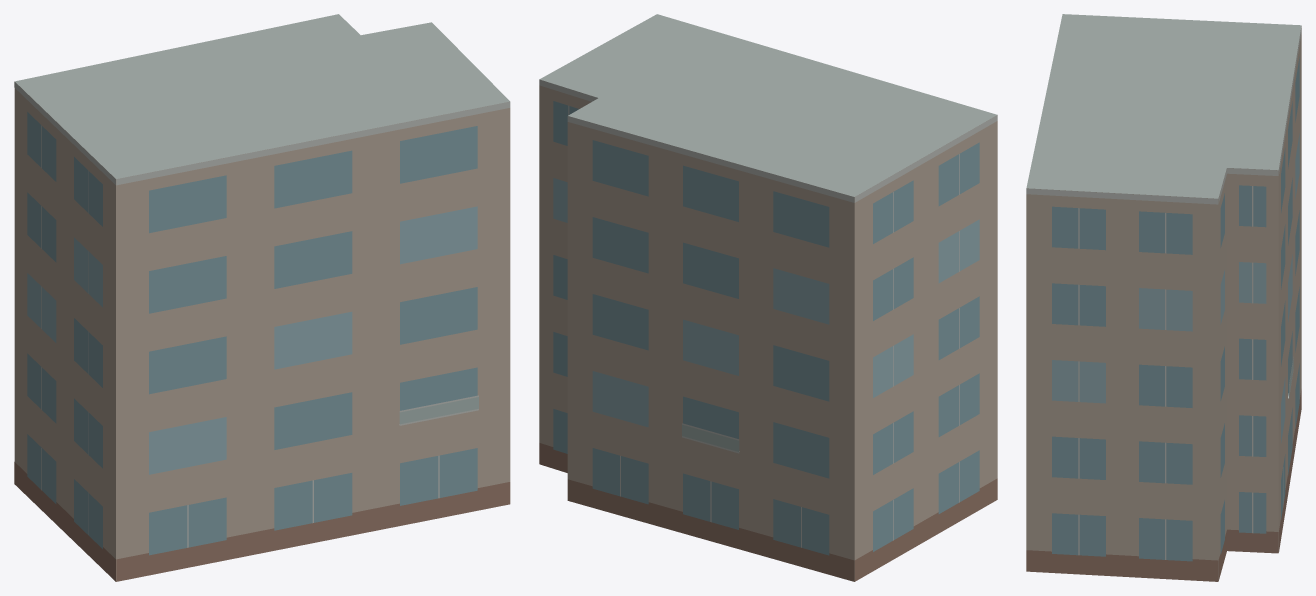
The model's file is survey-upis-32941243.glb.
The picture shows the model from 3 angles, left to right: view 1: azimuth 30°, elevation 25°; view 2: azimuth 150°, elevation 25°; view 3: azimuth 270°, elevation 25°; orthographic projection. The views are drawn at different scales.
Parts seen in each view (by area): view 1: survey-upis-32941243.tmp; view 2: survey-upis-32941243.tmp; view 3: survey-upis-32941243.tmp.
Boxes of the visible parts, bbox=[...] form: survey-upis-32941243.tmp: bbox=[14, 14, 510, 581]; survey-upis-32941243.tmp: bbox=[539, 14, 997, 581]; survey-upis-32941243.tmp: bbox=[1026, 14, 1301, 581].
Bounding box in the file's own units: 16.34 × 15.8 × 10.3.
